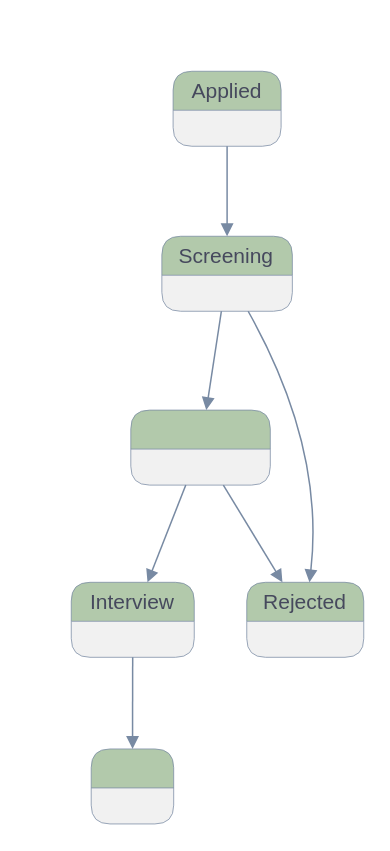
Image size: 390x851. Some labels were removed from this diagram. The shapes that lost their labels are listed below. From the top down, each one's box as (x1, y1, x2, y2) in pixels, then its label:
(130, 409, 270, 485): Shortlisted
(90, 748, 173, 824): Offer
